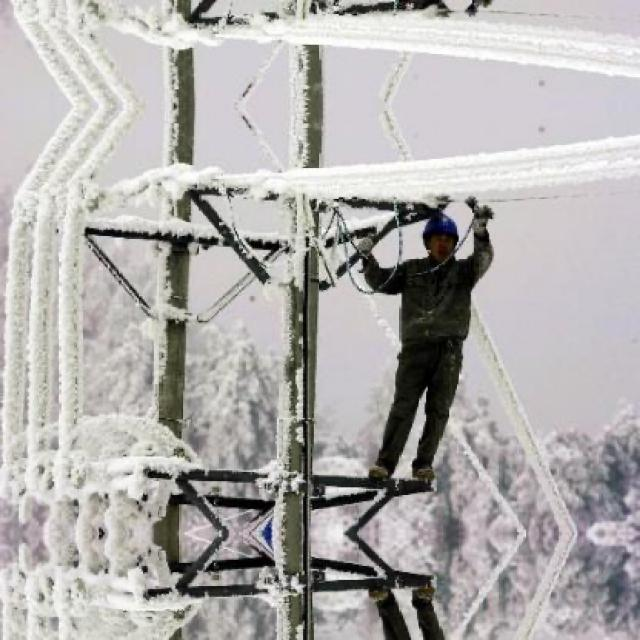helmet: (423, 208, 465, 261)
